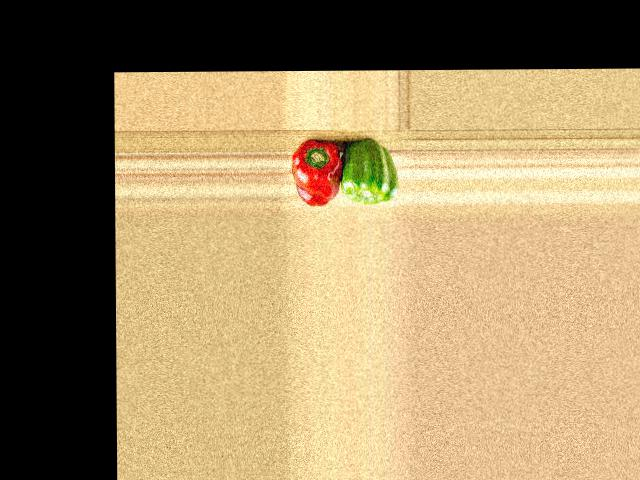bell_pepper: (290, 139, 344, 206)
